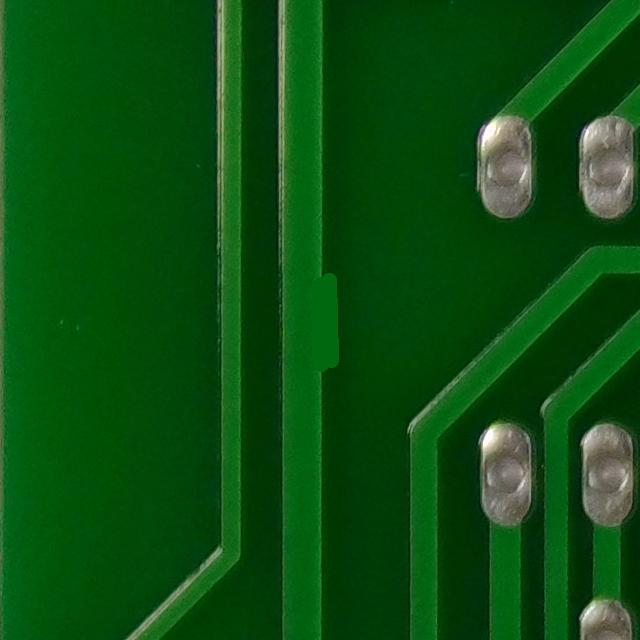spur: (282, 258, 358, 383)
